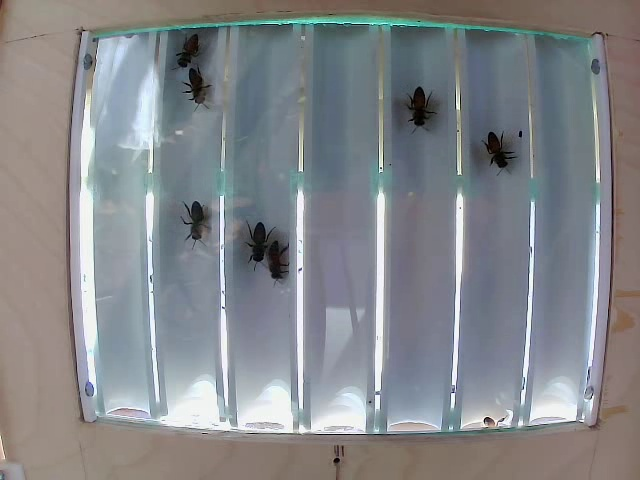bee: (169, 41, 221, 83), (177, 69, 222, 112), (268, 250, 294, 298), (485, 127, 510, 176), (174, 196, 207, 233), (410, 90, 434, 132), (248, 218, 271, 260)
